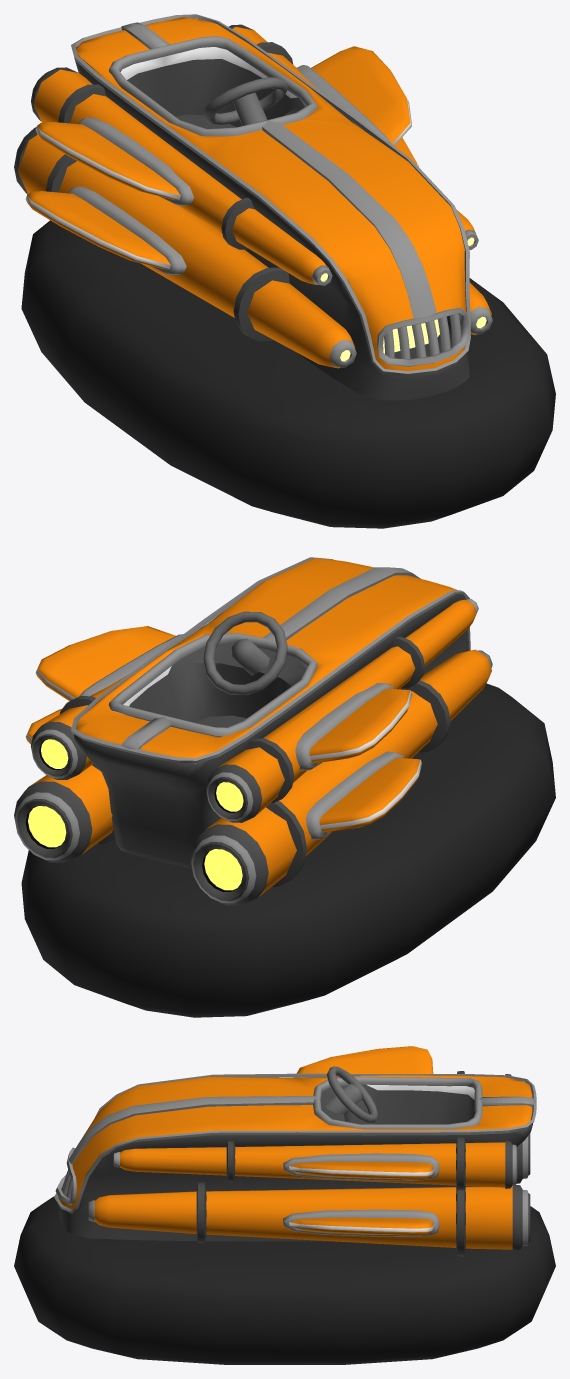
The model's file is mesh_Car_InGame_F.fbx.
3 renders of one model, top to bottom at view 1: azimuth 30°, elevation 25°; view 2: azimuth 150°, elevation 25°; view 3: azimuth 270°, elevation 25°, orthographic. The views are drawn at different scales.
Visible parts, largest first — view 1: mesh_Car_InGame_F; view 2: mesh_Car_InGame_F; view 3: mesh_Car_InGame_F.
Part boxes in pixels (box(x1,y1,x2,y2)): mesh_Car_InGame_F: box(14, 14, 555, 528); mesh_Car_InGame_F: box(14, 557, 555, 1017); mesh_Car_InGame_F: box(14, 1046, 555, 1364).
Bounding box in the file's own units: 1.77 × 1.5 × 2.97.
